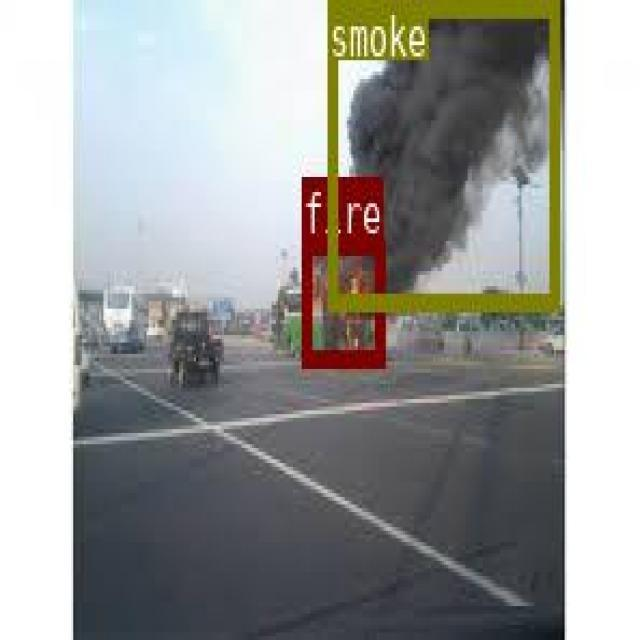fire: (301, 236, 383, 364)
smoke: (327, 0, 557, 309)
